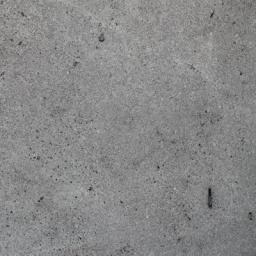FOD: (205, 183, 217, 213)
